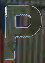Parking: (3, 2, 41, 62)
